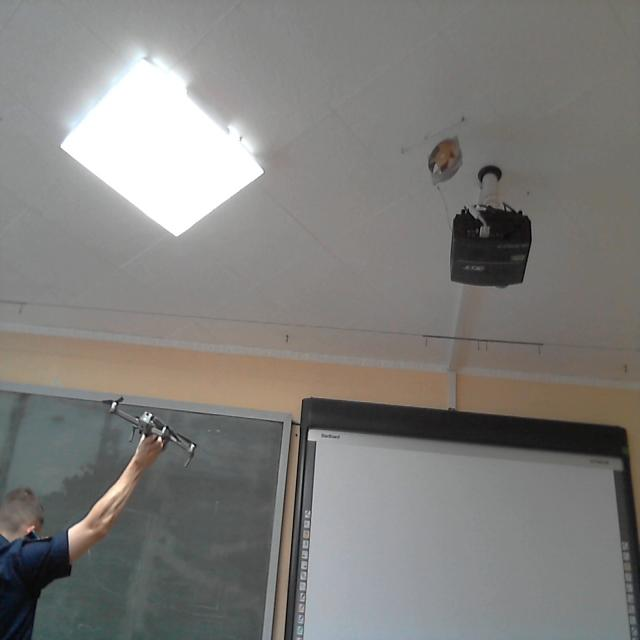drone: (93, 379, 210, 473)
